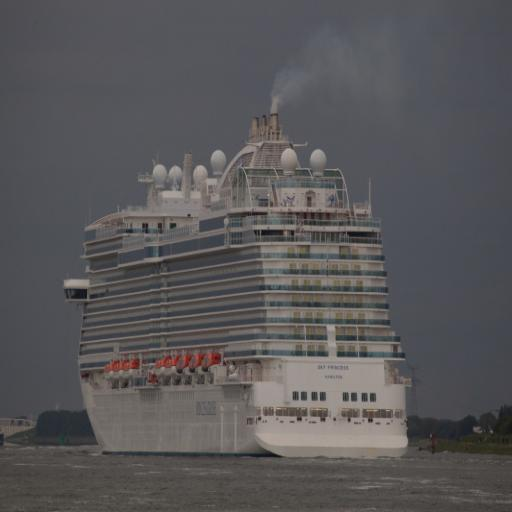cruises: (62, 114, 415, 467)
